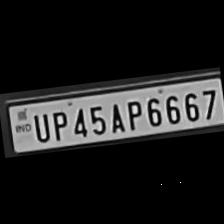4: (66, 104, 88, 138)
5: (84, 102, 107, 136)
6: (178, 88, 201, 122), (140, 93, 162, 127), (160, 92, 182, 124)
7: (197, 85, 220, 119)
A: (104, 98, 124, 132)
P: (121, 96, 144, 131), (47, 106, 70, 140)
U: (28, 110, 50, 142)
